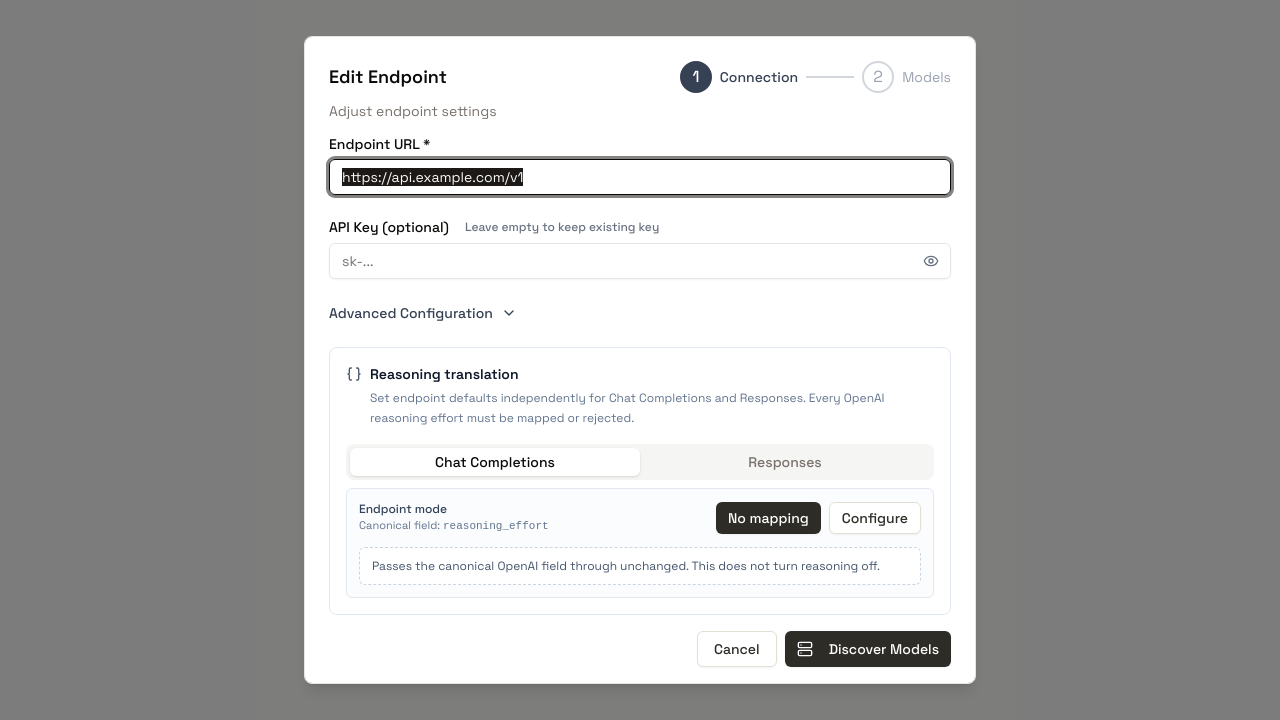
it: EditEndpointModal › validates URL changes and shows warning
Replace the text in the field showing "https://api.example.com/v1" with "https://new-url.com/v1" at (640, 177), box x1=329 y1=159 x2=951 y2=195
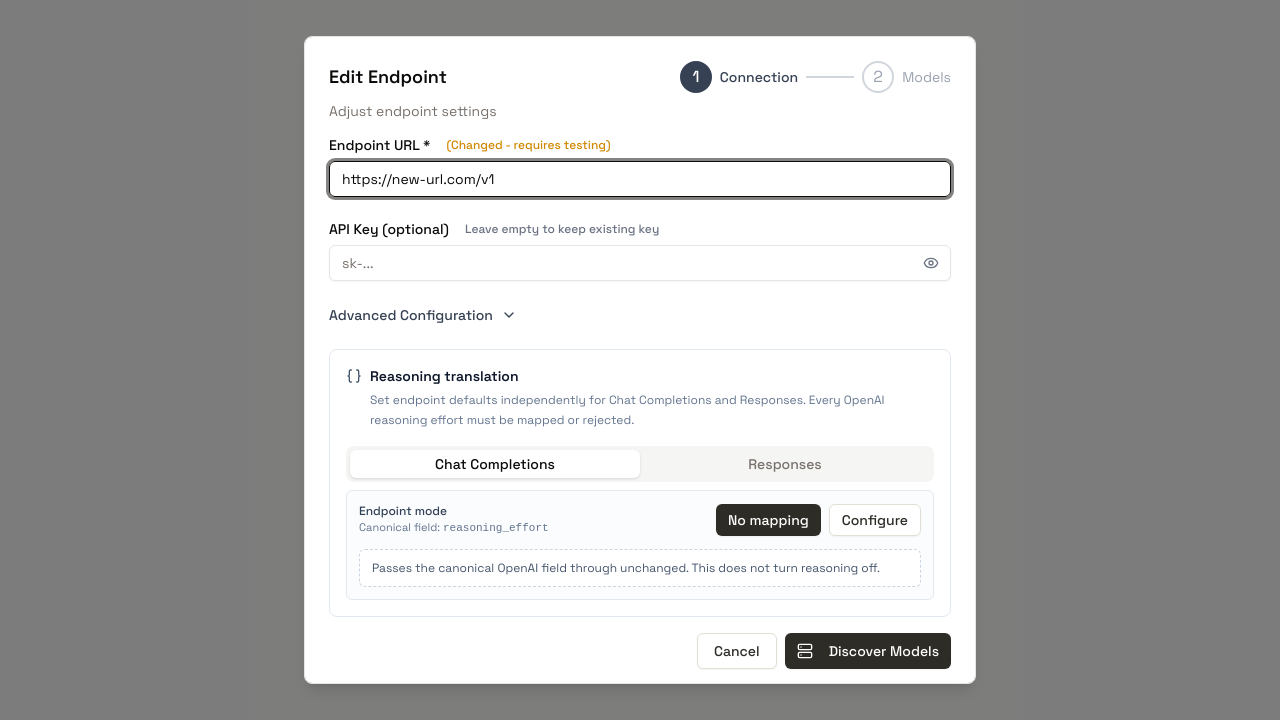
Result: the text "(Changed - requires testing)" is shown at x1=446 y1=137 x2=610 y2=153
